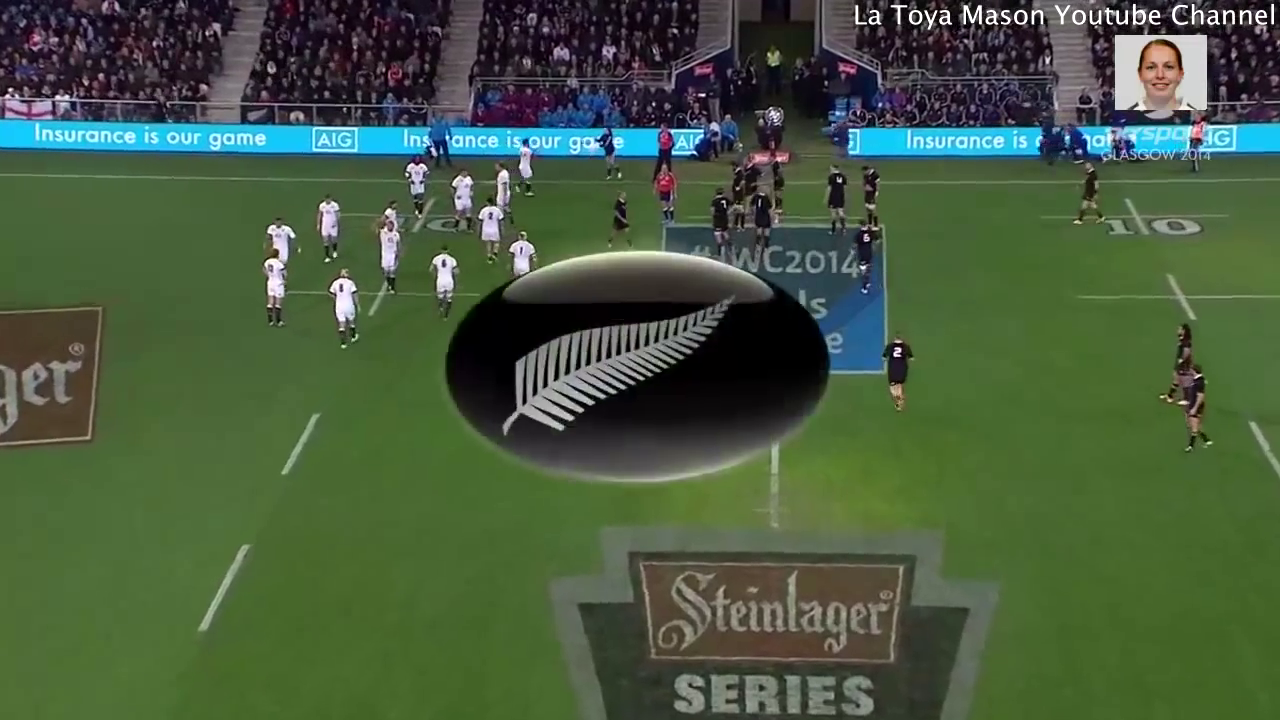10_metre: (1069, 267, 1280, 326), (1033, 192, 1242, 249), (329, 192, 522, 244)
player: (871, 328, 929, 421), (1176, 360, 1217, 461), (321, 263, 365, 352), (1157, 317, 1196, 414), (846, 217, 881, 303), (257, 245, 290, 335), (257, 211, 302, 276), (311, 190, 346, 268), (856, 163, 890, 242), (822, 162, 853, 244), (374, 219, 405, 301), (747, 180, 778, 260), (505, 228, 539, 298), (397, 152, 430, 221), (605, 184, 636, 256), (768, 152, 797, 228), (739, 154, 769, 225), (487, 159, 518, 227), (474, 197, 504, 265), (648, 162, 677, 232), (448, 171, 479, 236), (709, 187, 733, 261), (512, 137, 537, 200), (724, 161, 744, 233), (373, 196, 401, 231)
